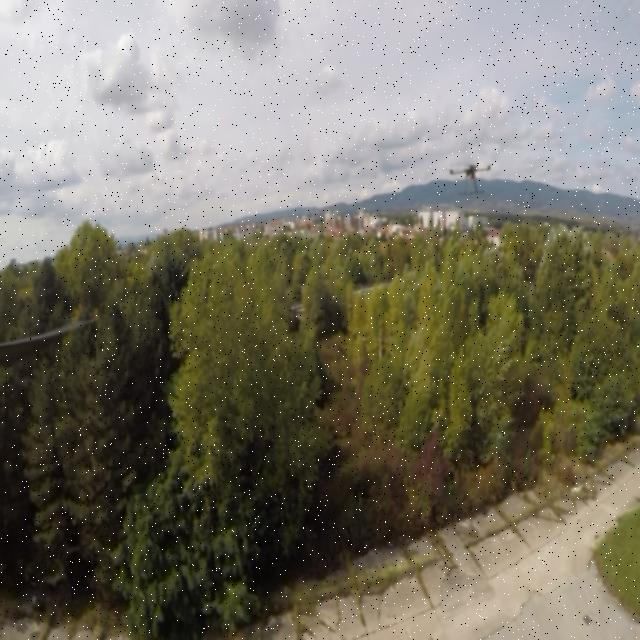UAV: (443, 156, 495, 198)
